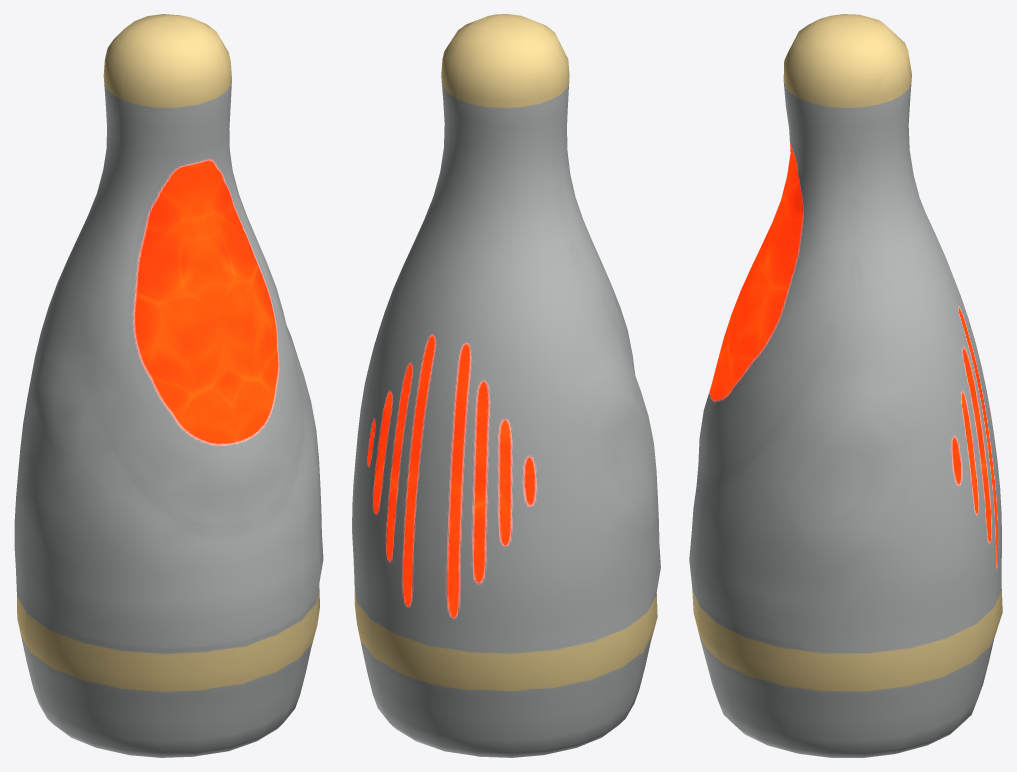
File: BarBottle03_2.FBX
3 views of the same model, side by side, from view 1: azimuth 30°, elevation 25°; view 2: azimuth 150°, elevation 25°; view 3: azimuth 270°, elevation 25° (orthographic).
Visible parts, largest first — view 1: BarBottle03_2; view 2: BarBottle03_2; view 3: BarBottle03_2.
Boxes of the visible parts, bbox=[...] form: BarBottle03_2: bbox=[14, 14, 323, 757]; BarBottle03_2: bbox=[352, 14, 660, 757]; BarBottle03_2: bbox=[689, 14, 1002, 757].
Size of what is drawn, in the model's own units: 0.13 by 0.316 by 0.1305.
